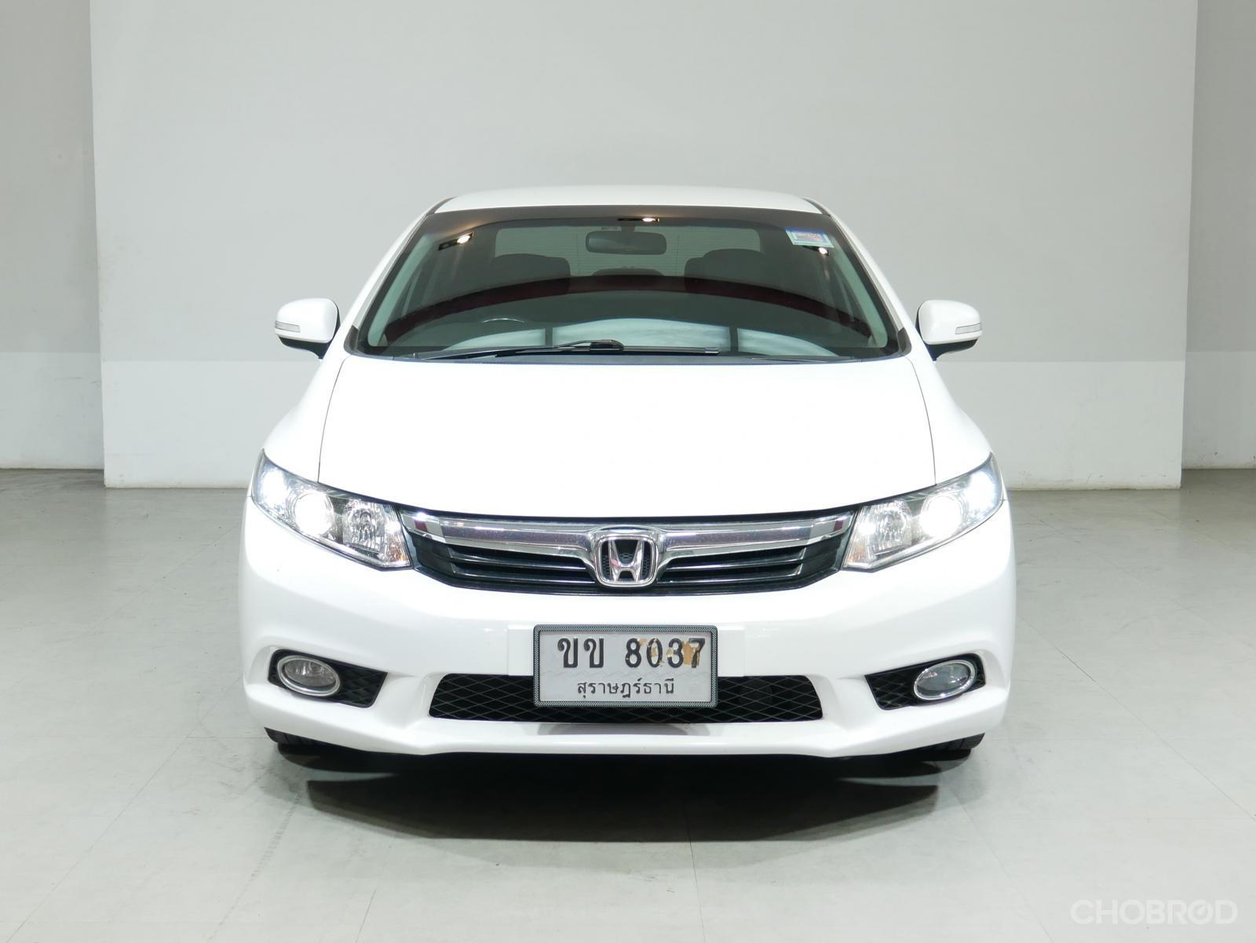license-plate: (521, 614, 730, 720)
